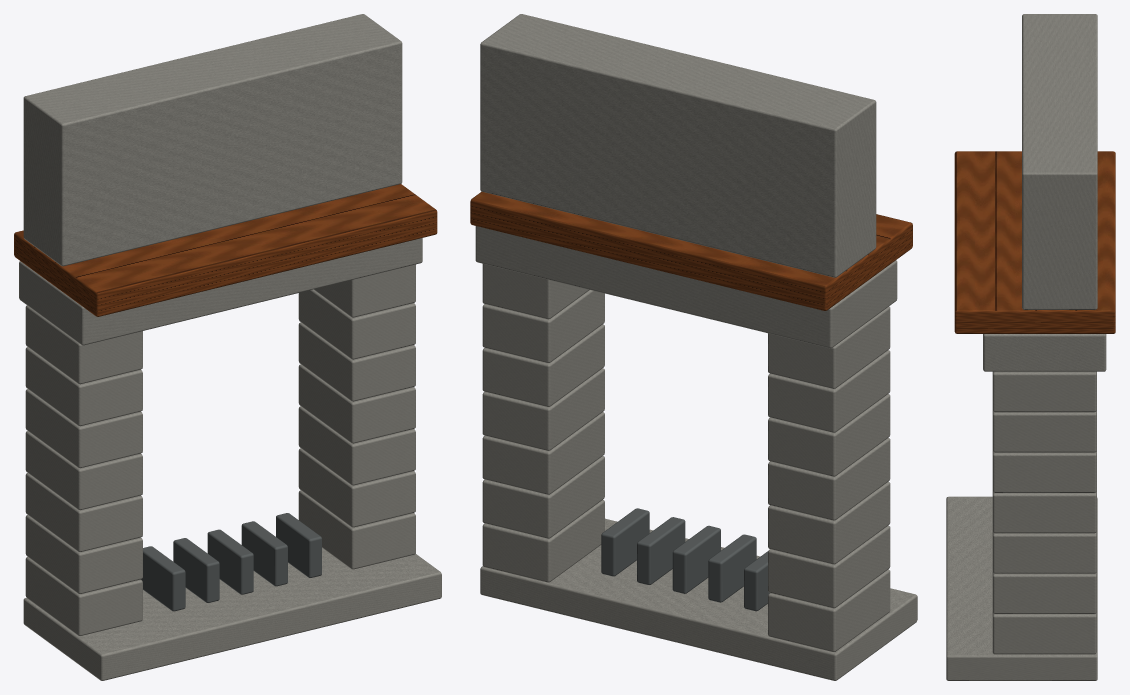
The model's file is adventurers-tavern-and-guild-hall-fireplace-wall-ca153e5a__24678.glb.
3 renders of one model, left to right at view 1: azimuth 30°, elevation 25°; view 2: azimuth 150°, elevation 25°; view 3: azimuth 270°, elevation 25°, orthographic. The views are drawn at different scales.
Parts seen in each view (by area): view 1: fireplace-wall; view 2: fireplace-wall; view 3: fireplace-wall.
Boxes of the visible parts, x1,y1,x2,y2 form: fireplace-wall: (14,14,441,680); fireplace-wall: (470,14,917,680); fireplace-wall: (946,14,1115,680).
Bounding box in the file's own units: 2 × 2.96 × 0.8949.
Materials: 3 (2 with a texture image).
